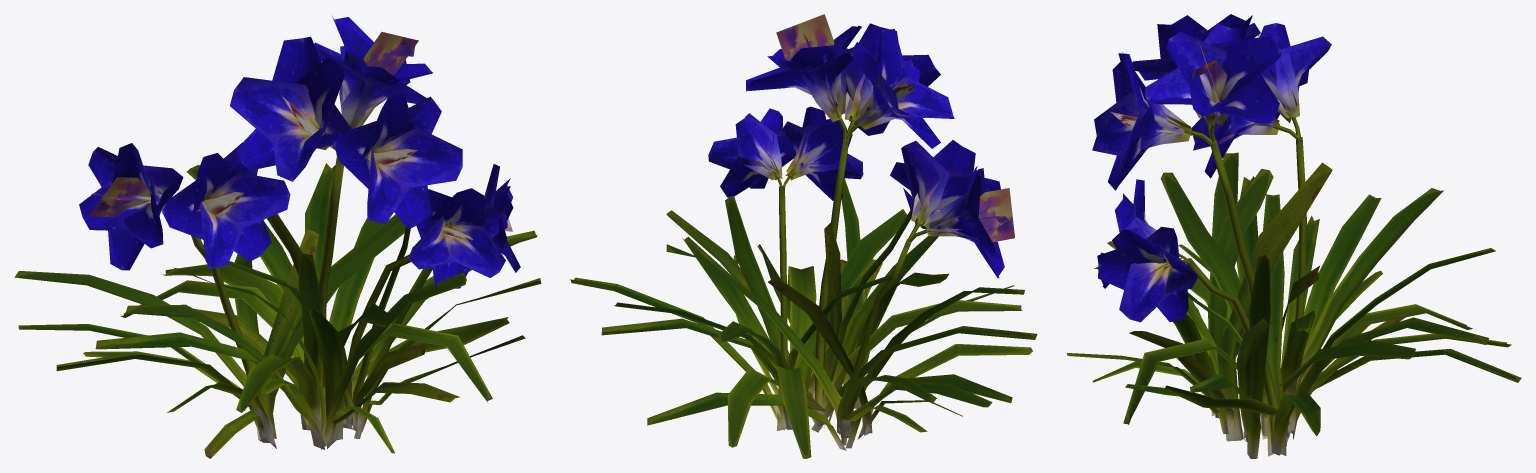
The model's file is Amaryllis_bush_short_deepblue.glb.
3 renders of one model, left to right at view 1: azimuth 30°, elevation 25°; view 2: azimuth 150°, elevation 25°; view 3: azimuth 270°, elevation 25°, orthographic. The views are drawn at different scales.
Visible parts, largest first — view 1: bush; view 2: bush; view 3: bush.
Boxes of the visible parts, <box> form: bush: <box>14,16,541,458</box>; bush: <box>570,14,1037,458</box>; bush: <box>1067,14,1521,458</box>.
Bounding box in the file's own units: 2.76 × 2.32 × 2.27.
Materials: 1 (1 with a texture image).
